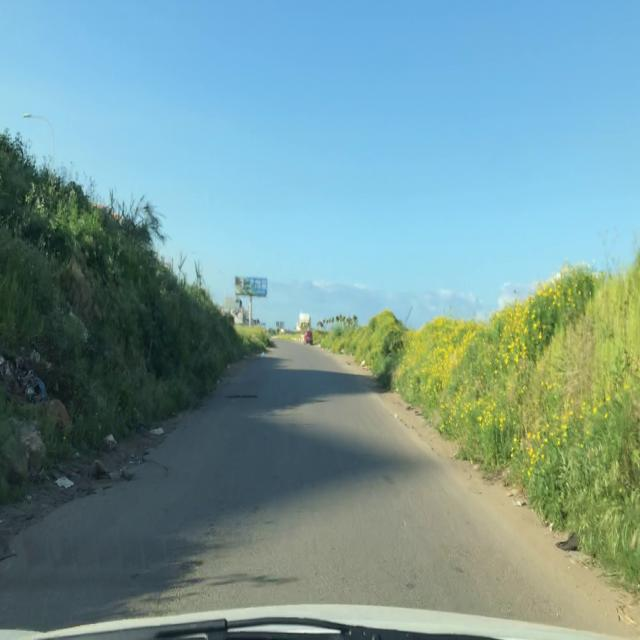Pothole: (221, 388, 258, 403)
